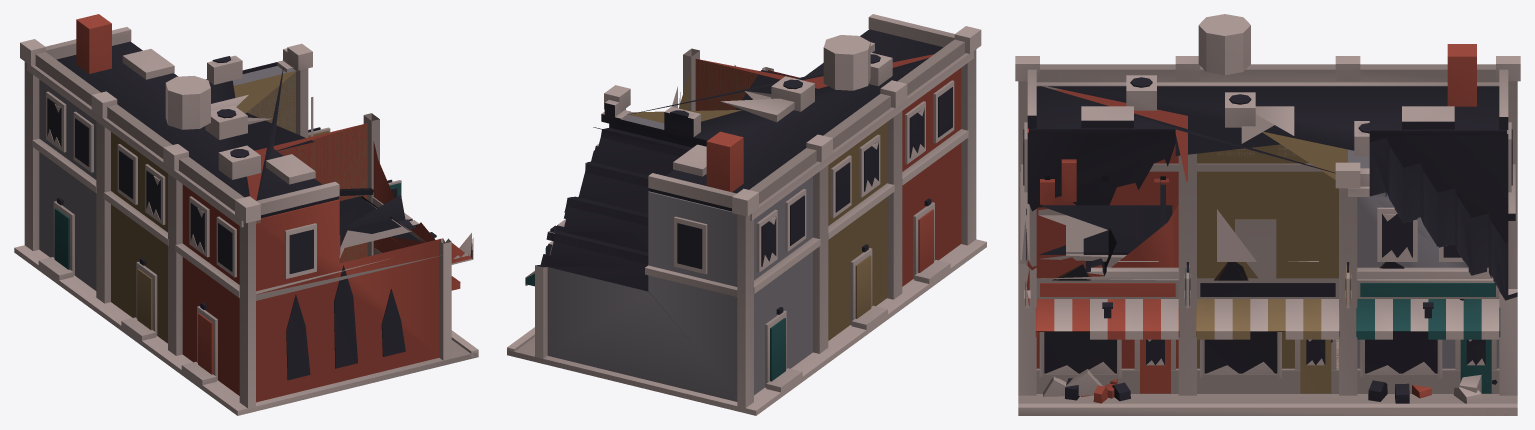
3 views of the same model, side by side, from view 1: azimuth 30°, elevation 25°; view 2: azimuth 150°, elevation 25°; view 3: azimuth 270°, elevation 25° (orthographic). The views are drawn at different scales.
Visible parts, largest first — view 1: body_pal_sidewalk.001, body_pal_brick.017, body_pal_uiDark, body_pal_khakiSeam, body_pal_pantsLight, body_pal_tealDark; view 2: body_pal_sidewalk.001, body_pal_pantsLight, body_pal_uiDark, body_pal_brick.017, body_pal_khakiSeam, body_pal_tealDark; view 3: body_pal_sidewalk.001, body_pal_uiDark, body_pal_khakiSeam, body_pal_brick.017, body_pal_tealDark, body_pal_pantsLight.
Part boxes in pixels (<box>): body_pal_sidewalk.001: <box>14,27,478,415</box>; body_pal_brick.017: <box>76,14,472,402</box>; body_pal_uiDark: <box>47,41,436,380</box>; body_pal_khakiSeam: <box>111,70,367,343</box>; body_pal_pantsLight: <box>39,66,295,290</box>; body_pal_tealDark: <box>54,183,400,269</box>; body_pal_sidewalk.001: <box>507,14,986,415</box>; body_pal_pantsLight: <box>547,115,812,401</box>; body_pal_uiDark: <box>535,29,952,314</box>; body_pal_brick.017: <box>695,54,961,286</box>; body_pal_khakiSeam: <box>631,59,886,340</box>; body_pal_tealDark: <box>525,245,785,381</box>; body_pal_sidewalk.001: <box>1015,14,1520,415</box>; body_pal_uiDark: <box>1023,77,1517,403</box>; body_pal_khakiSeam: <box>1196,131,1350,393</box>; body_pal_brick.017: <box>1025,44,1476,403</box>; body_pal_tealDark: <box>1185,267,1500,393</box>; body_pal_pantsLight: <box>1348,130,1508,368</box>.
Bounding box in the file's own units: 10.1 × 10.12 × 16.4.
